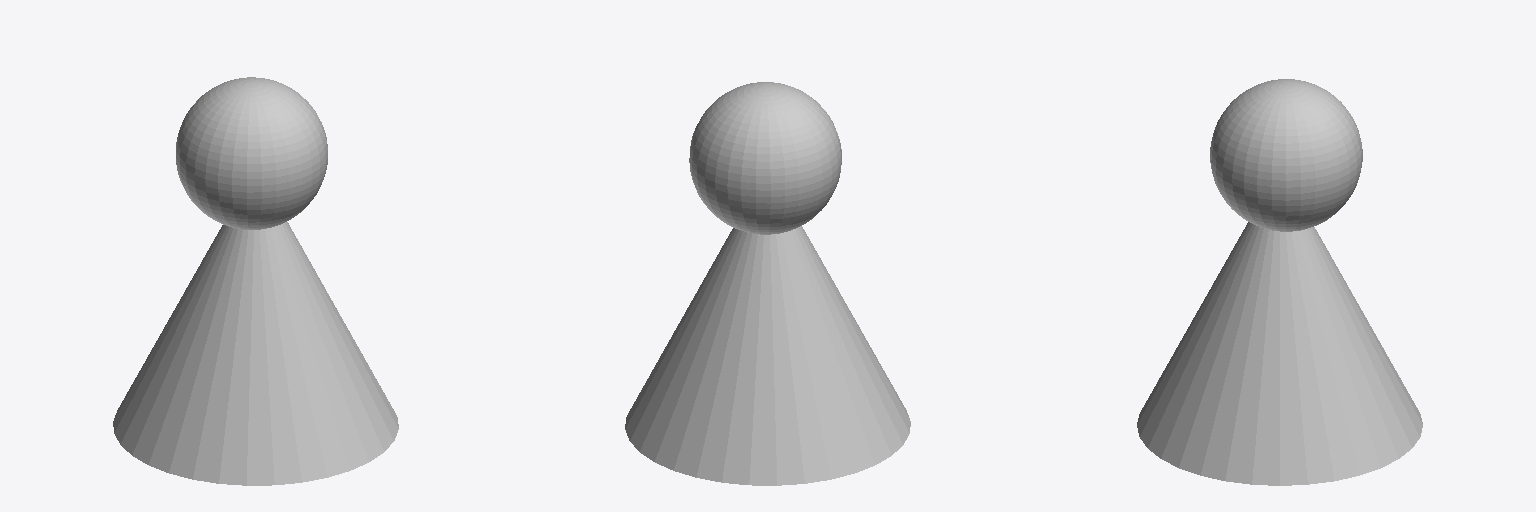
Rendered from robber.obj.
The picture shows the model from 3 angles: view 1: azimuth 30°, elevation 25°; view 2: azimuth 150°, elevation 25°; view 3: azimuth 270°, elevation 25°; orthographic projection.
Visible parts, largest first — view 1: Cone, Sphere; view 2: Cone, Sphere; view 3: Cone, Sphere.
Part boxes in pixels (left/top/right/bottom): Cone: left=113, top=222, right=398, bottom=485; Sphere: left=176, top=77, right=327, bottom=229; Cone: left=625, top=226, right=910, bottom=485; Sphere: left=689, top=82, right=841, bottom=234; Cone: left=1137, top=222, right=1422, bottom=485; Sphere: left=1210, top=79, right=1362, bottom=231.
Bounding box in the file's own units: 2 × 2.61 × 2.